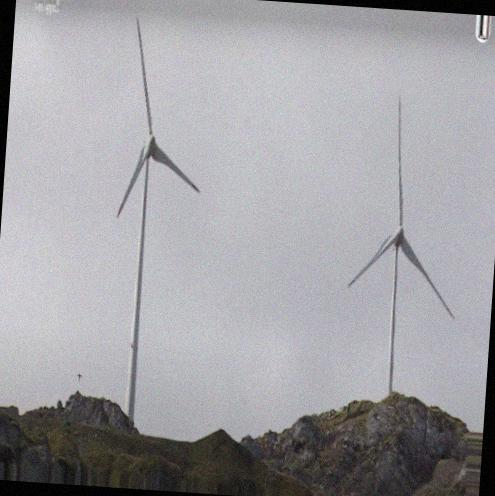wind turbine: (114, 14, 204, 435), (345, 95, 459, 401)
